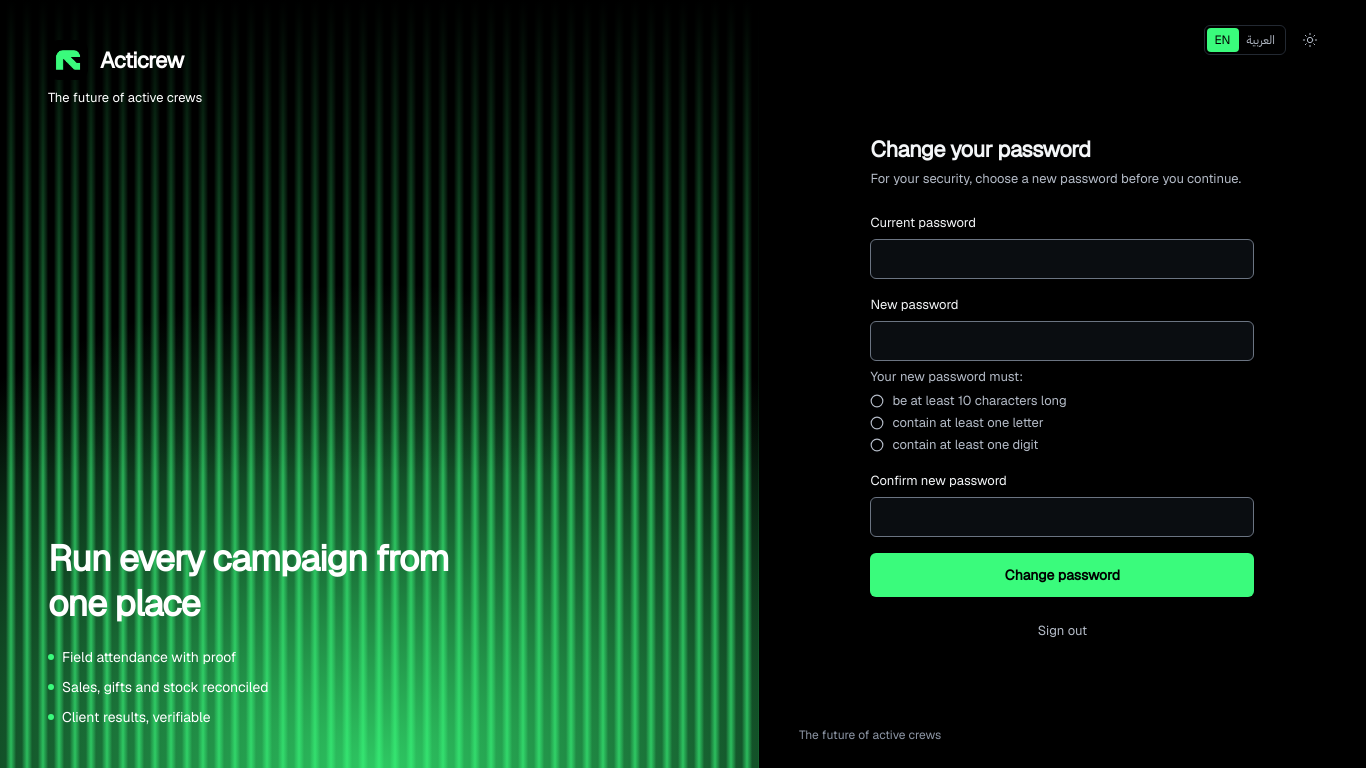
it: change password page › shows the policy as a live checklist and checks the confirmation
Check: the heading "Change your password" is shown, box [870,134,1090,162]
Check: the list item "be at least 10 characters long" is shown, box [870,392,1067,408]
Type "abc1" into the password field labelled "New password".
click(1062, 340); type("abc1")  # box [870,320,1254,360]
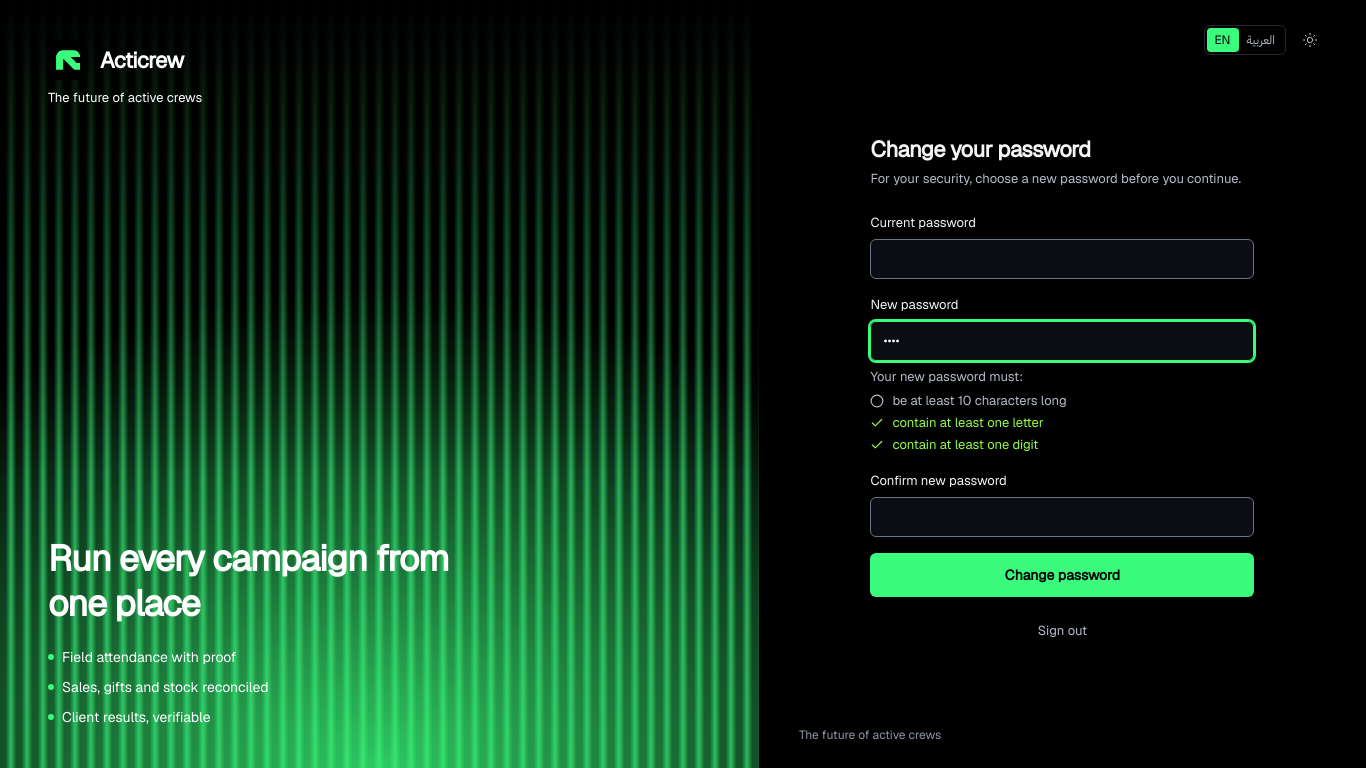
Check: the list item "contain at least one letter" has attribute data-met="true", box [870,414,1044,430]
Clear the password field labelled "New password" at x=1062, y=340, box [870,320,1254,360]
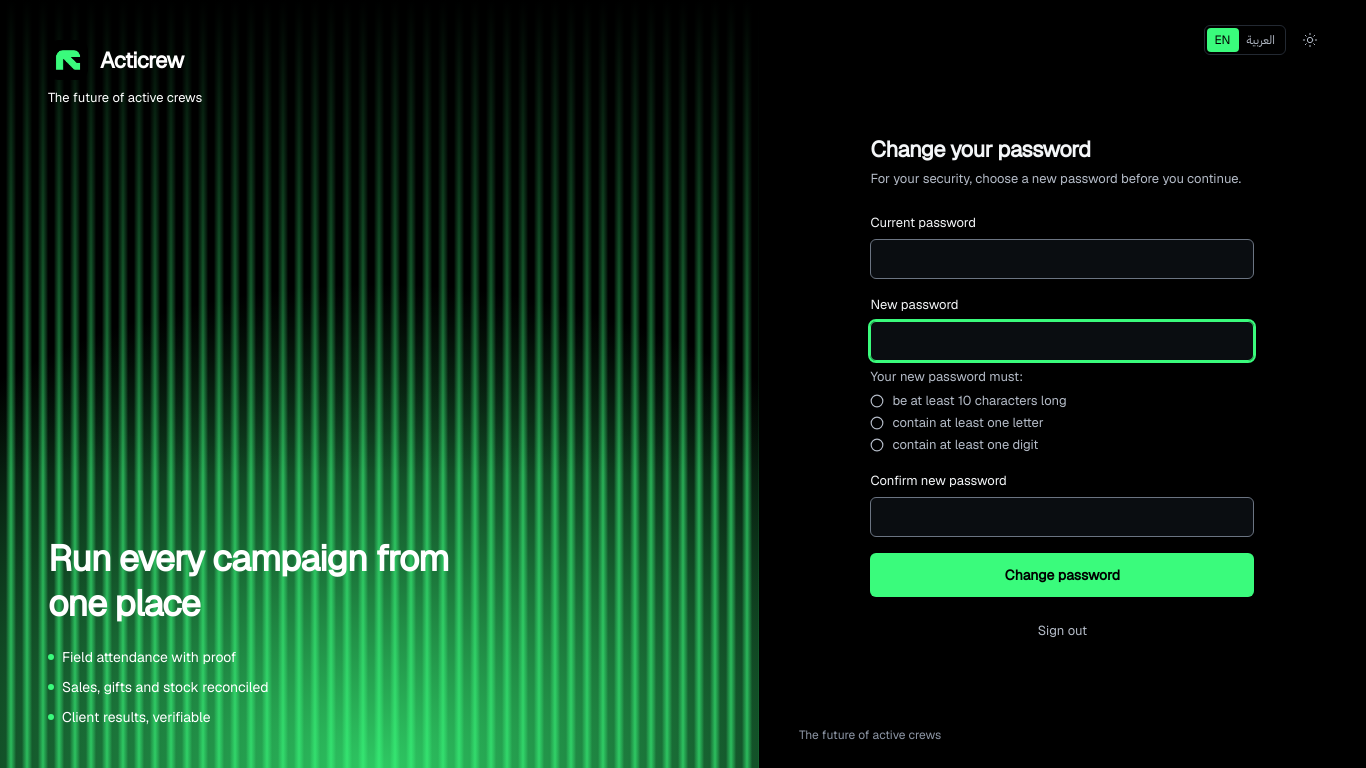
Type "temporary-1" into the password field labelled "Current password".
click(1062, 258); type("temporary-1")  # box [870,238,1254,278]
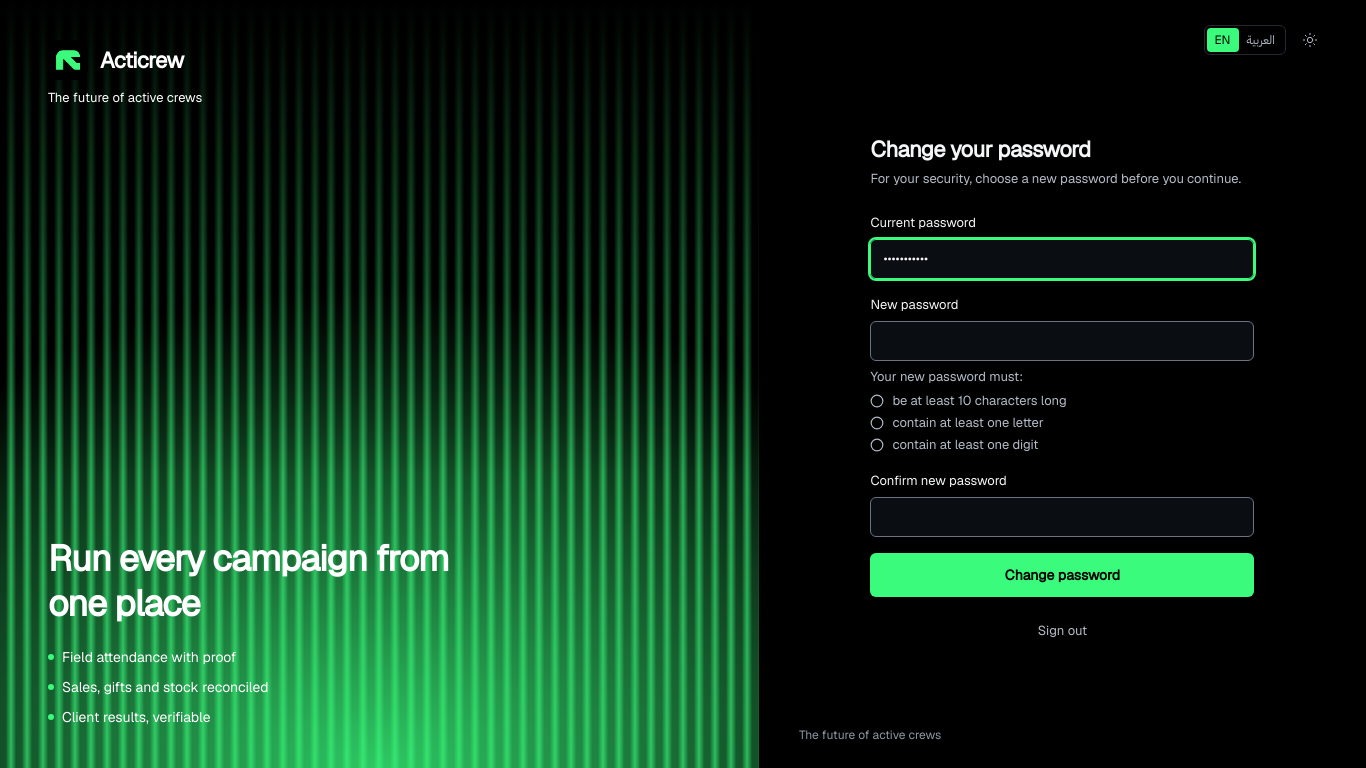
Type "brand-new-pass-9" into the password field labelled "New password".
click(1062, 340); type("brand-new-pass-9")  # box [870,320,1254,360]
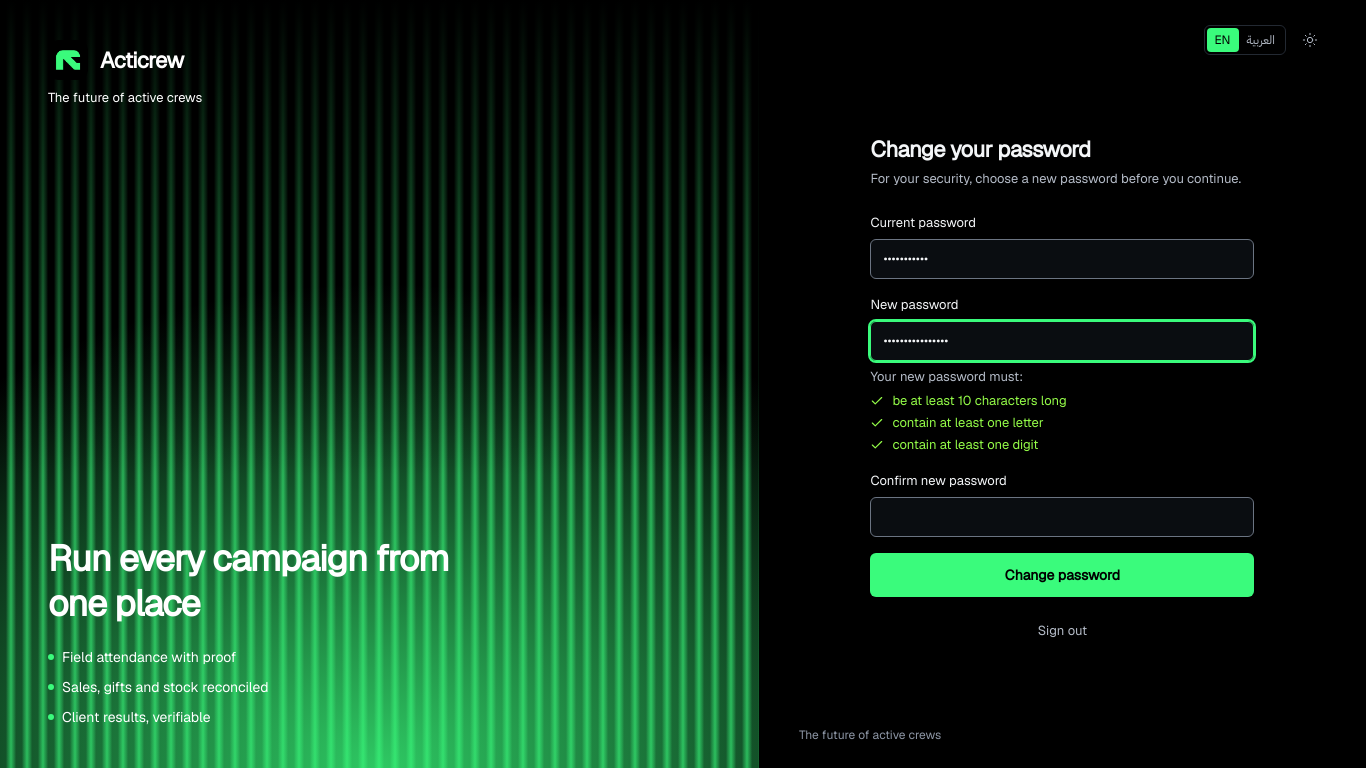
Type "something-else-9" into the password field labelled "Confirm new password".
click(1062, 516); type("something-else-9")  # box [870,496,1254,536]
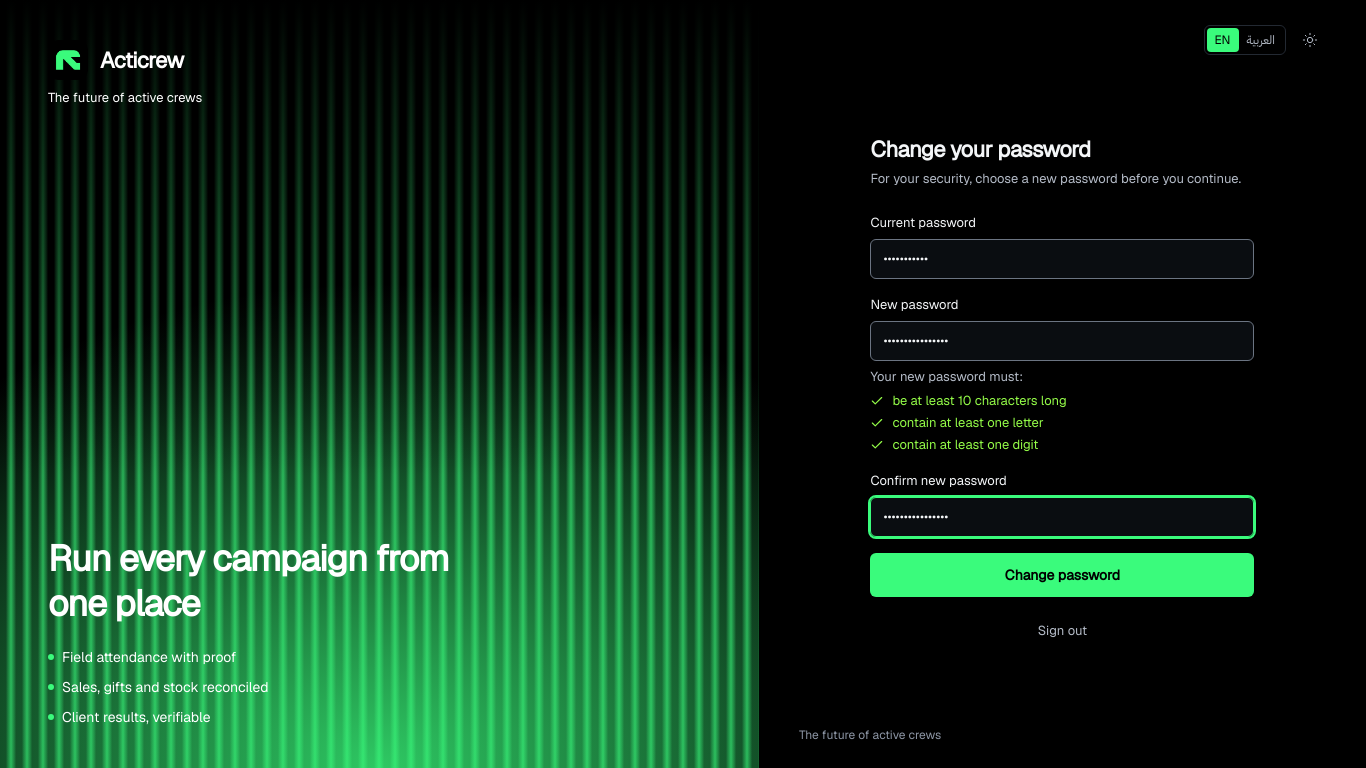
Click the button "Change password".
click(1062, 574)  # box [870,552,1254,596]
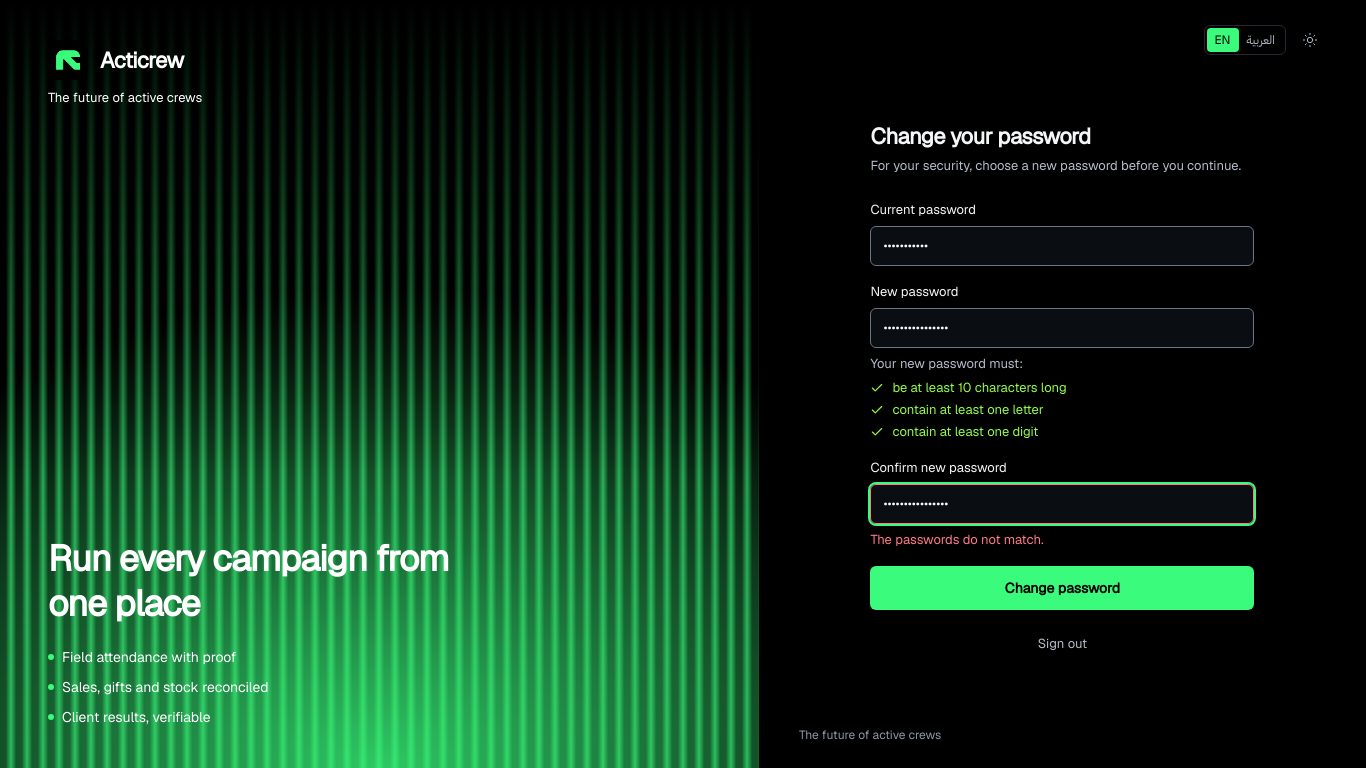
Check: the text "The passwords do not match." is shown, box [870,530,1044,548]
